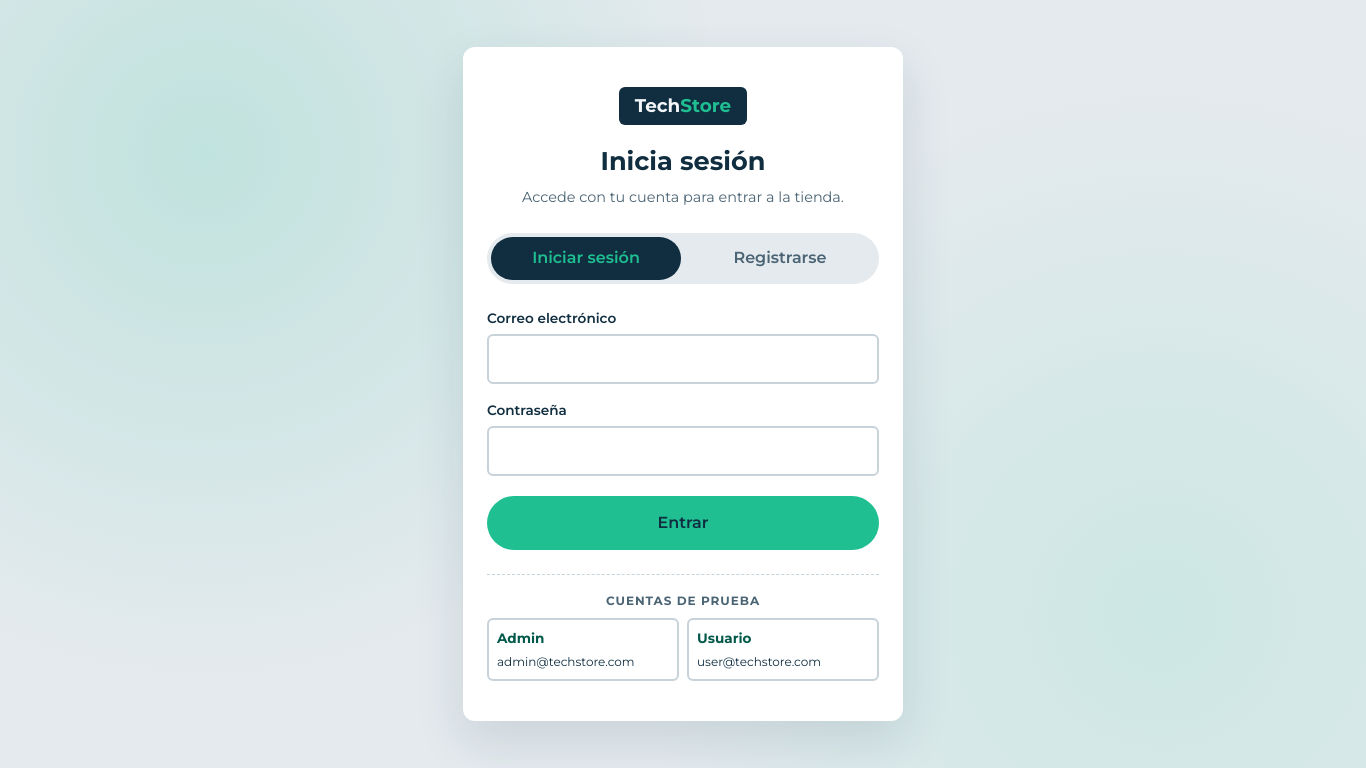
it: login obligatorio › si el servidor tarda (arranque en frío), avisa que se está despertando
Click the button with aria-label "cuenta de prueba Usuario": click(783, 649) [687,618,879,681]
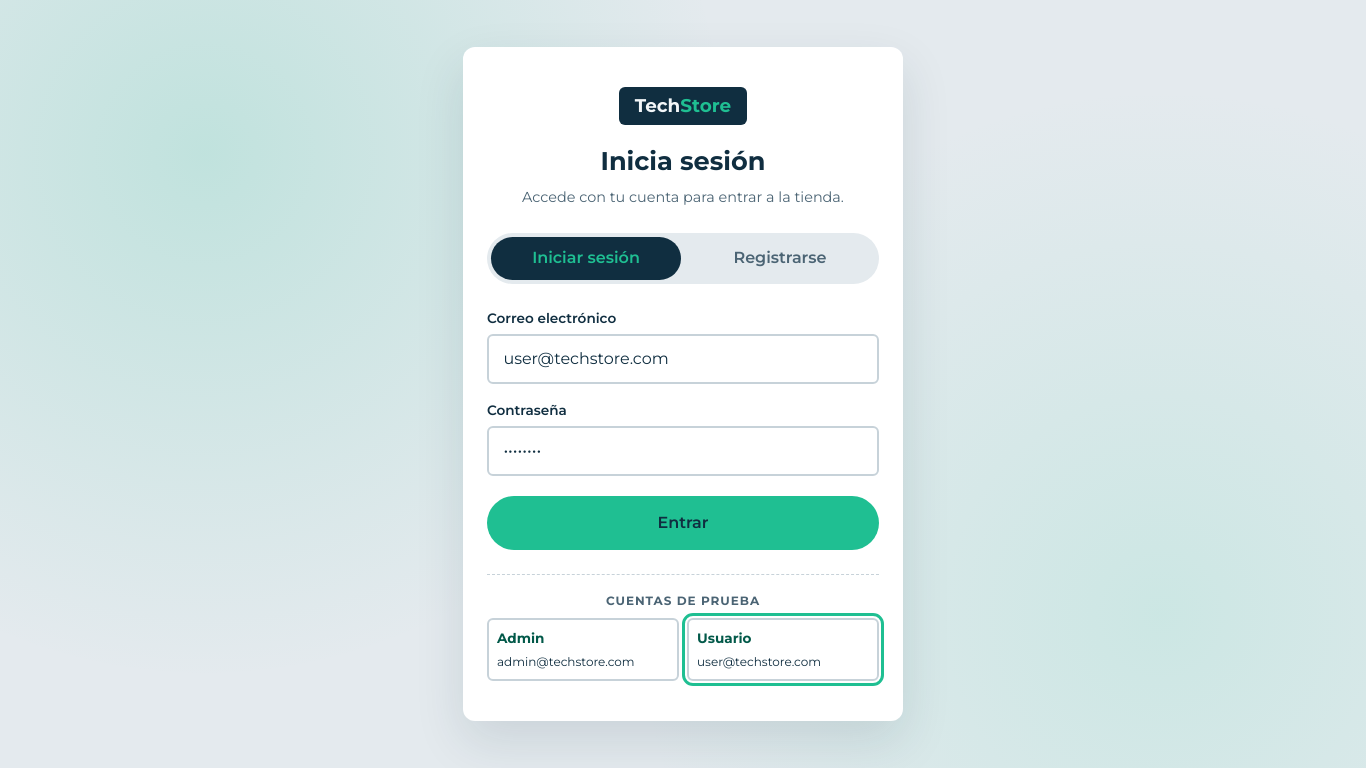
Click the button "Entrar": click(683, 523) [487,496,879,550]
Wait 4500 ms
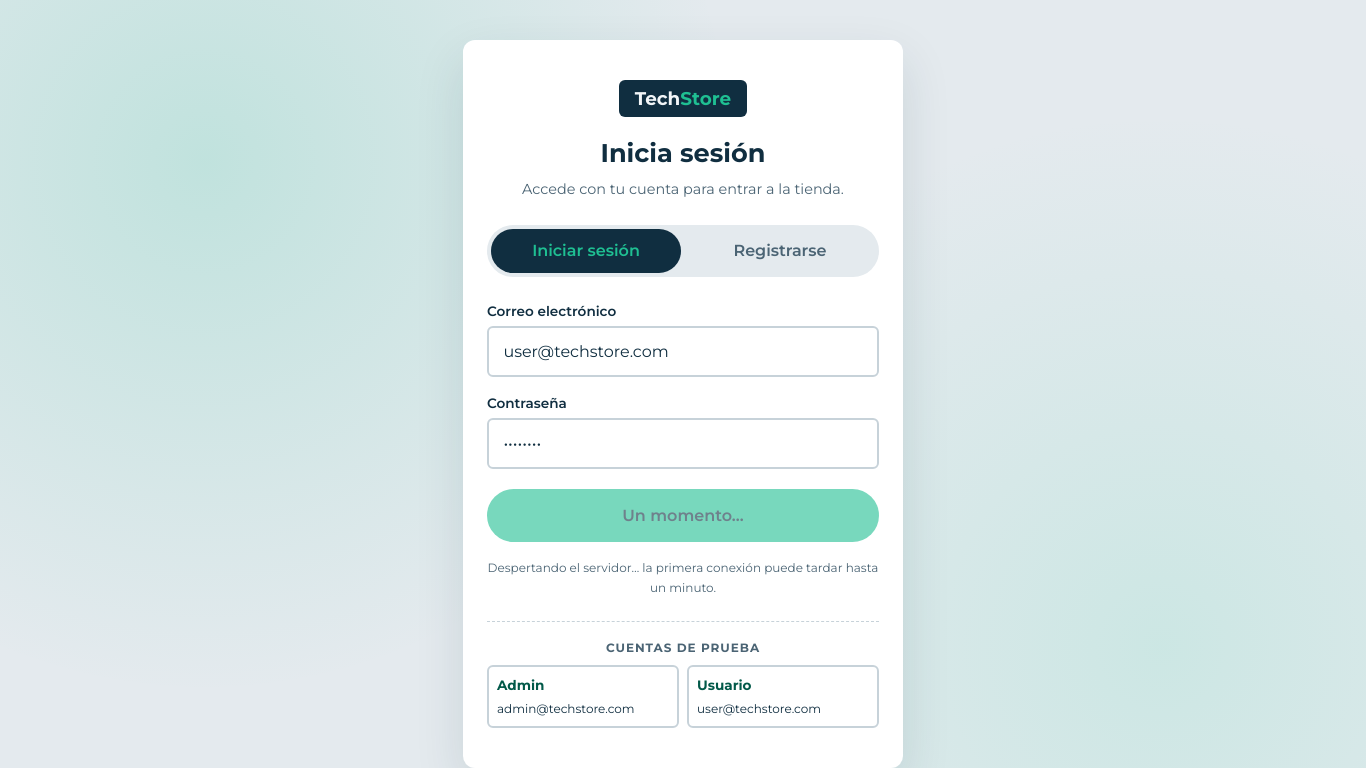
Expected: the button "Un momento…" is disabled, [487,489,879,542]
Expected: the text "Despertando el servidor… la primera conexión puede tardar hasta un minuto." is shown, [487,558,879,597]
